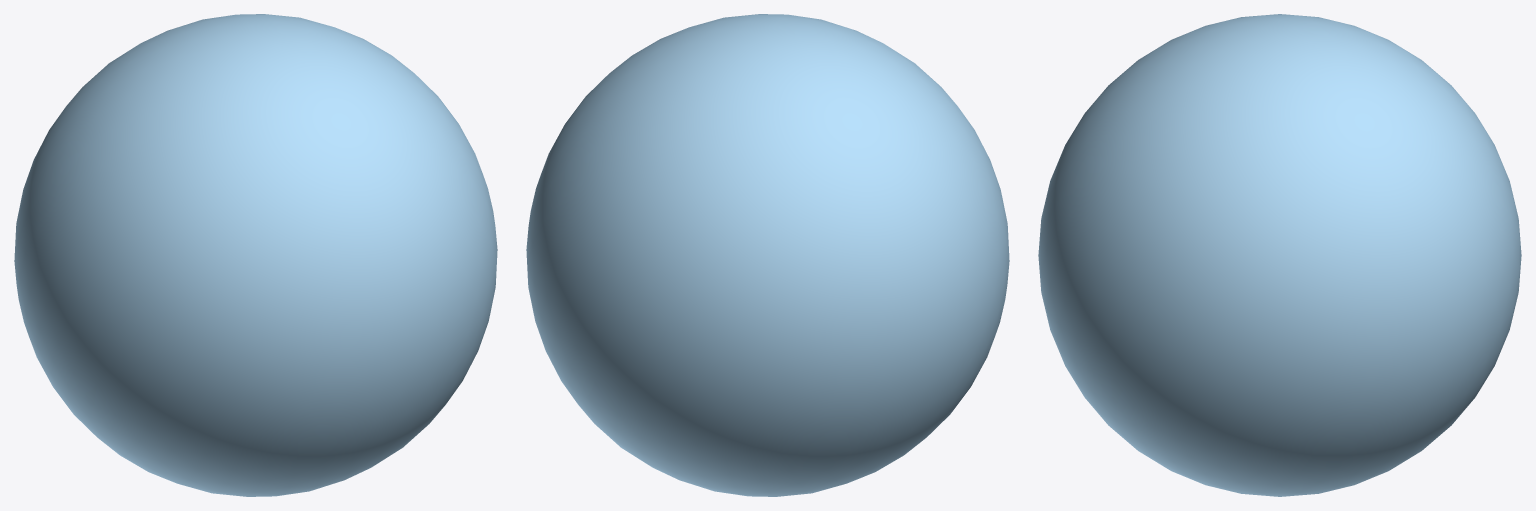
The model's file is generic_cell.glb.
3 views of the same model, side by side, from view 1: azimuth 30°, elevation 25°; view 2: azimuth 150°, elevation 25°; view 3: azimuth 270°, elevation 25° (orthographic).
Parts seen in each view (by area): view 1: Icosphere; view 2: Icosphere; view 3: Icosphere.
Boxes of the visible parts, bbox=[...] form: Icosphere: bbox=[14, 14, 497, 496]; Icosphere: bbox=[526, 14, 1009, 496]; Icosphere: bbox=[1038, 14, 1521, 496].
Size of the model in its own units: 0.25 by 0.25 by 0.25.
